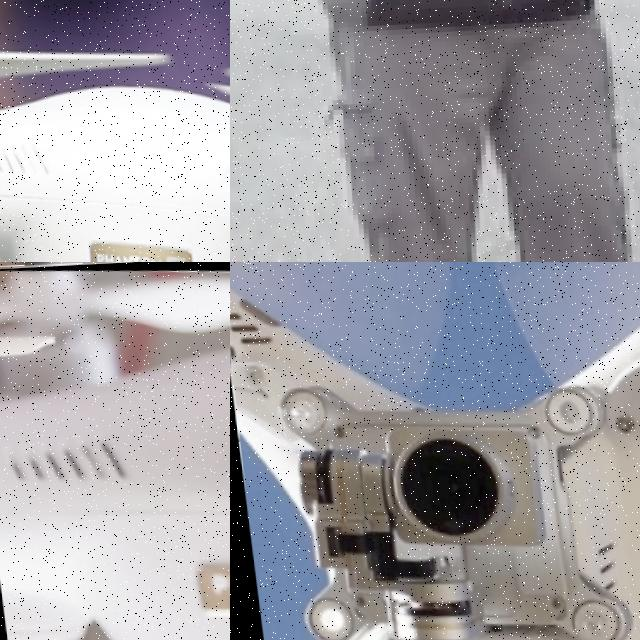drone: (230, 262, 640, 640), (0, 262, 230, 640), (0, 0, 230, 262)
